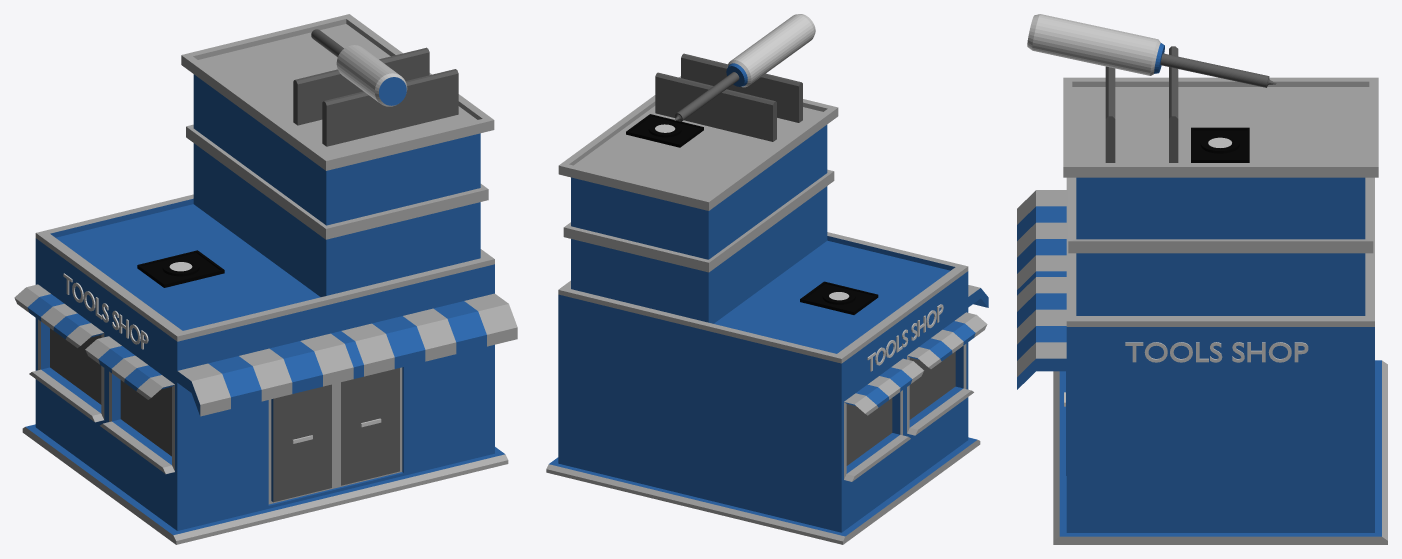
Rendered from TOOLS SHOP.001_Material.015.glb.
The picture shows the model from 3 angles, left to right: view 1: azimuth 30°, elevation 25°; view 2: azimuth 150°, elevation 25°; view 3: azimuth 270°, elevation 25°; orthographic projection. The views are drawn at different scales.
Parts seen in each view (by area): view 1: TOOLS SHOP.001_Material.015_0; view 2: TOOLS SHOP.001_Material.015_0; view 3: TOOLS SHOP.001_Material.015_0.
Boxes of the visible parts, x1,y1,x2,y2 form: TOOLS SHOP.001_Material.015_0: (14,14,517,544); TOOLS SHOP.001_Material.015_0: (546,14,988,544); TOOLS SHOP.001_Material.015_0: (1017,14,1387,544).
Bounding box in the file's own units: 1.91 × 2.23 × 1.62.
Materials: 1 (1 with a texture image).
